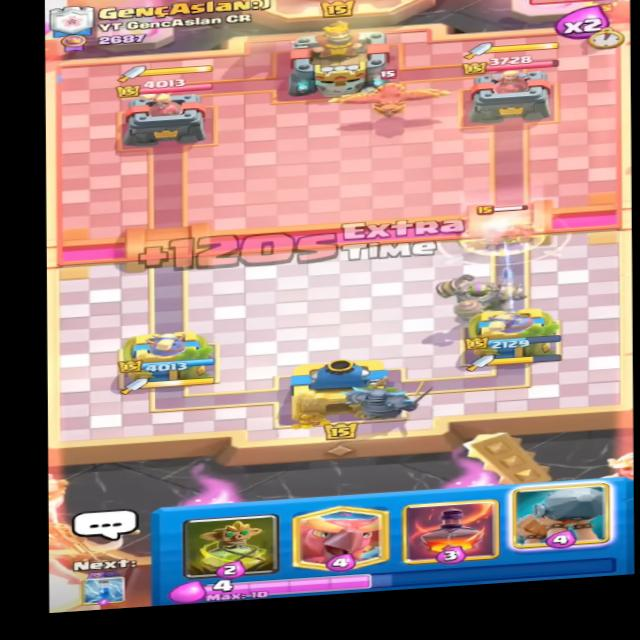bandit: (481, 202, 535, 245)
phoenix: (331, 64, 449, 125)
